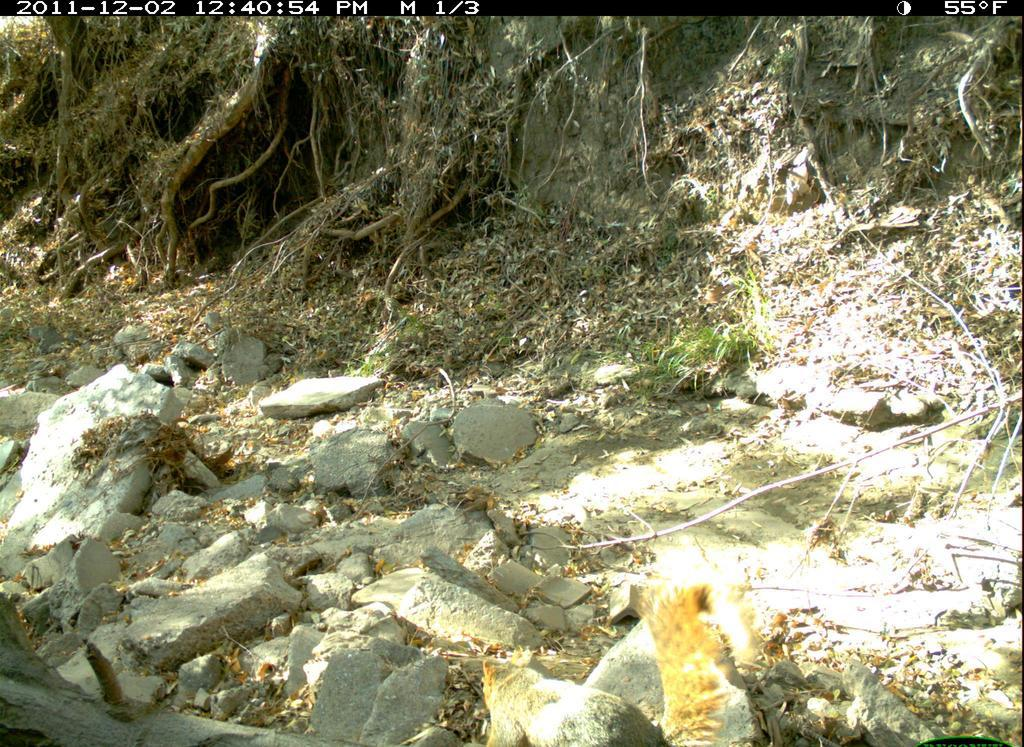squirrel: (469, 556, 758, 747)
